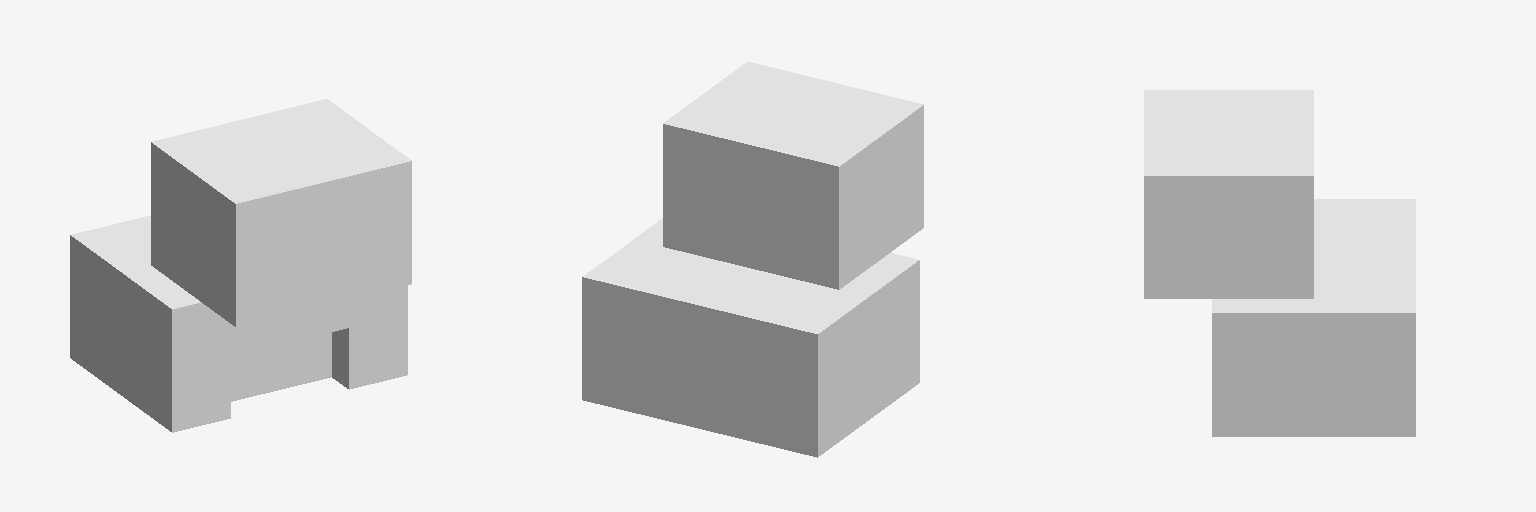
The model's file is Zebra.obj.
3 renders of one model, left to right at view 1: azimuth 30°, elevation 25°; view 2: azimuth 150°, elevation 25°; view 3: azimuth 270°, elevation 25°, orthographic.
Visible parts, largest first — view 1: Zebra; view 2: Zebra; view 3: Zebra.
Boxes of the visible parts, x1,y1,x2,y2 form: Zebra: [70, 99, 411, 432]; Zebra: [582, 62, 923, 457]; Zebra: [1144, 90, 1415, 436].
Bounding box in the file's own units: 40 × 40 × 40.